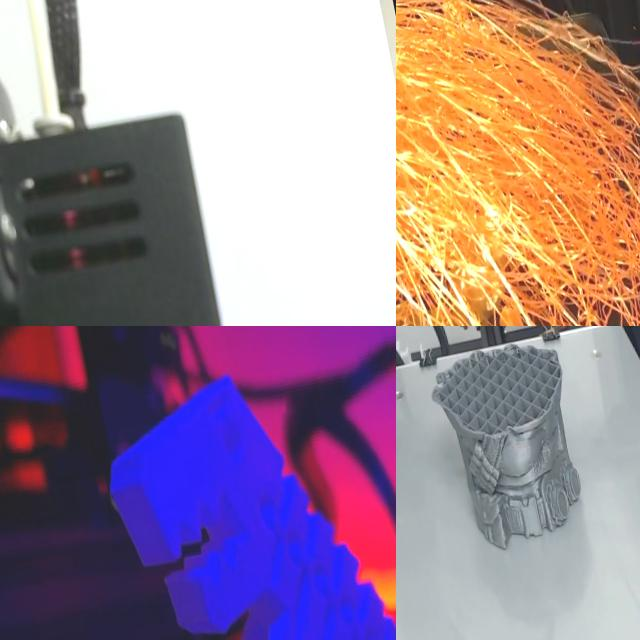spaghetti: (396, 0, 640, 326)
